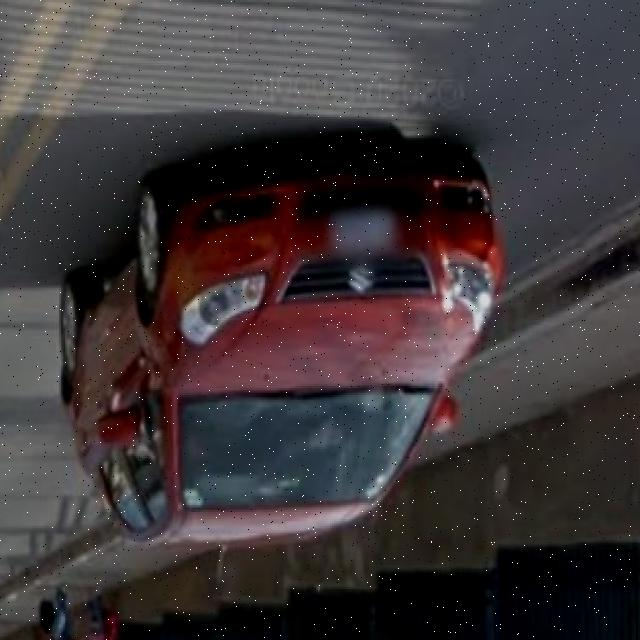car: (52, 143, 513, 547)
